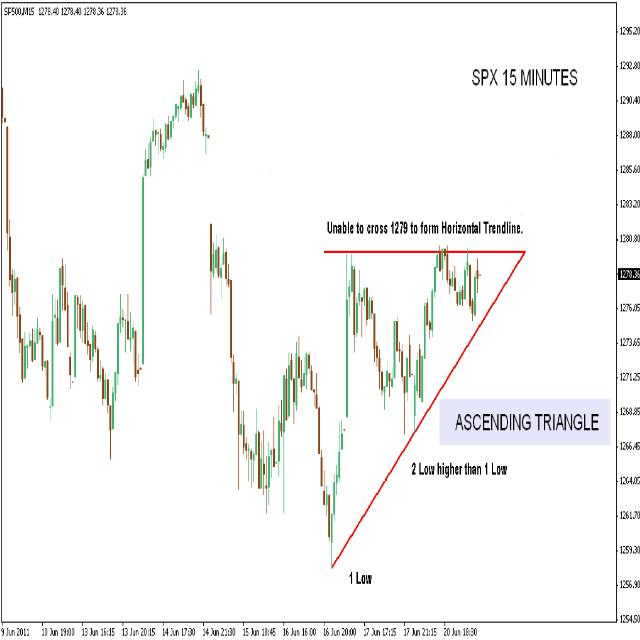Ascending-Triangle: (309, 252, 516, 596)
